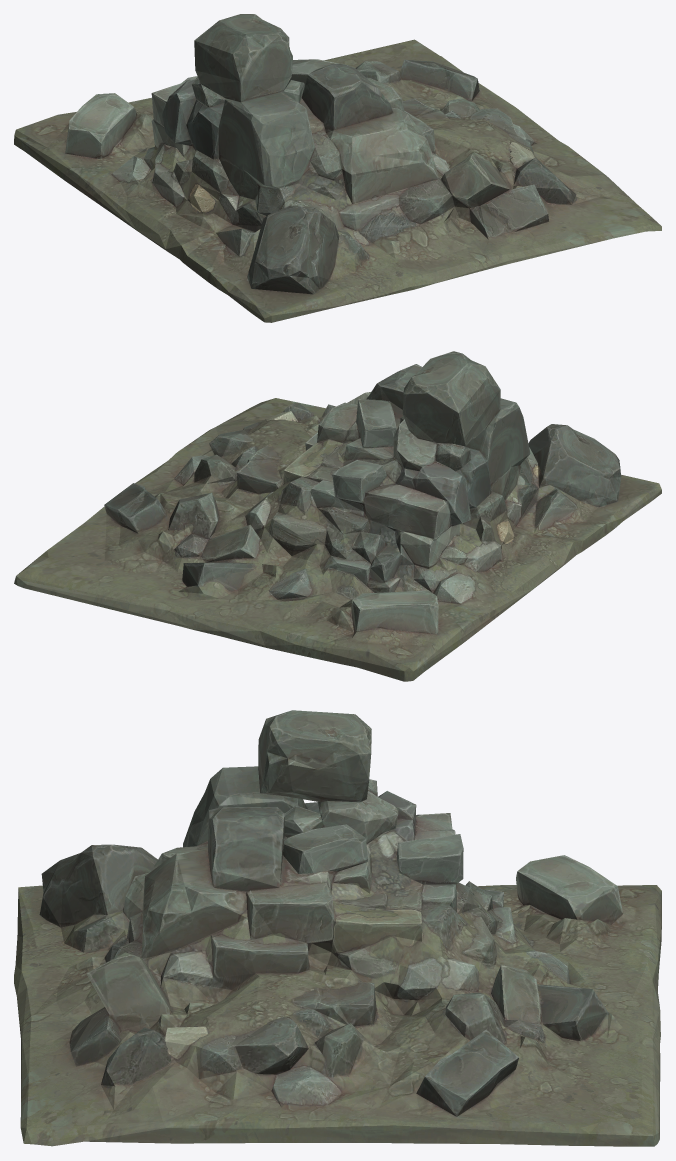
The model's file is WallRubble.fbx.
3 renders of one model, top to bottom at view 1: azimuth 30°, elevation 25°; view 2: azimuth 150°, elevation 25°; view 3: azimuth 270°, elevation 25°, orthographic. The views are drawn at different scales.
Visible parts, largest first — view 1: Dn_HL_WallRubble_A.mo; view 2: Dn_HL_WallRubble_A.mo; view 3: Dn_HL_WallRubble_A.mo.
Part boxes in pixels (box(x1,y1,x2,y2)): Dn_HL_WallRubble_A.mo: box(14, 14, 661, 322); Dn_HL_WallRubble_A.mo: box(14, 351, 661, 681); Dn_HL_WallRubble_A.mo: box(14, 710, 661, 1146).
Size of the model in its own units: 810 by 378 by 897.
